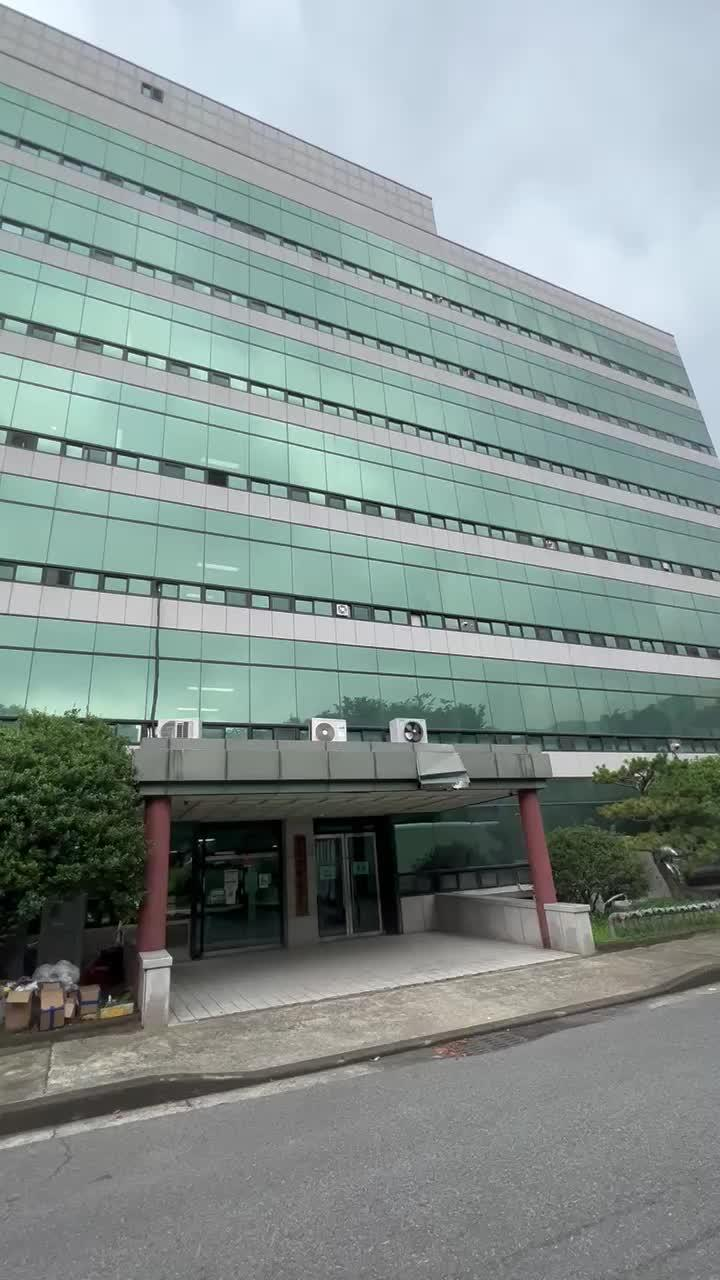building: (46, 212, 702, 722)
